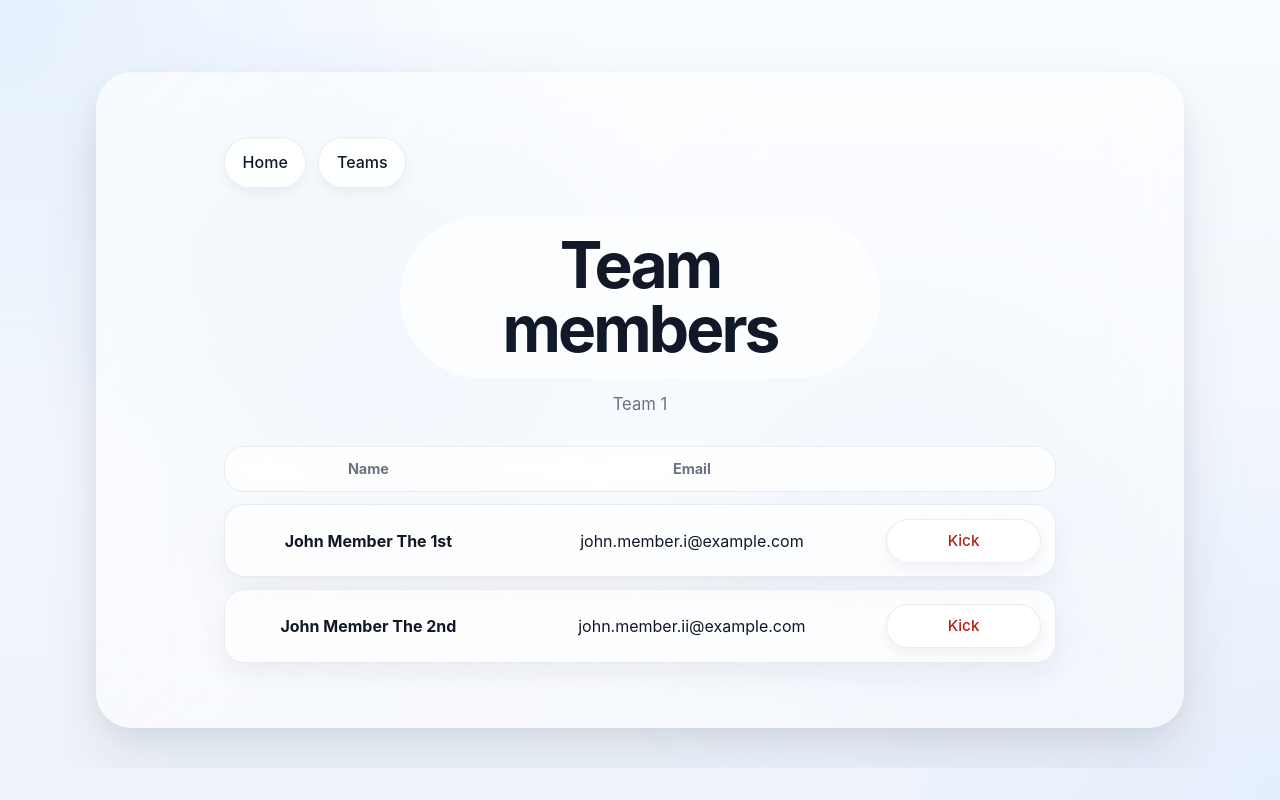
on kick with confirmation removes member from list
Click the button "Kick" next to "john.member.ii@example.com": [964, 626] box [886,604,1041,648]
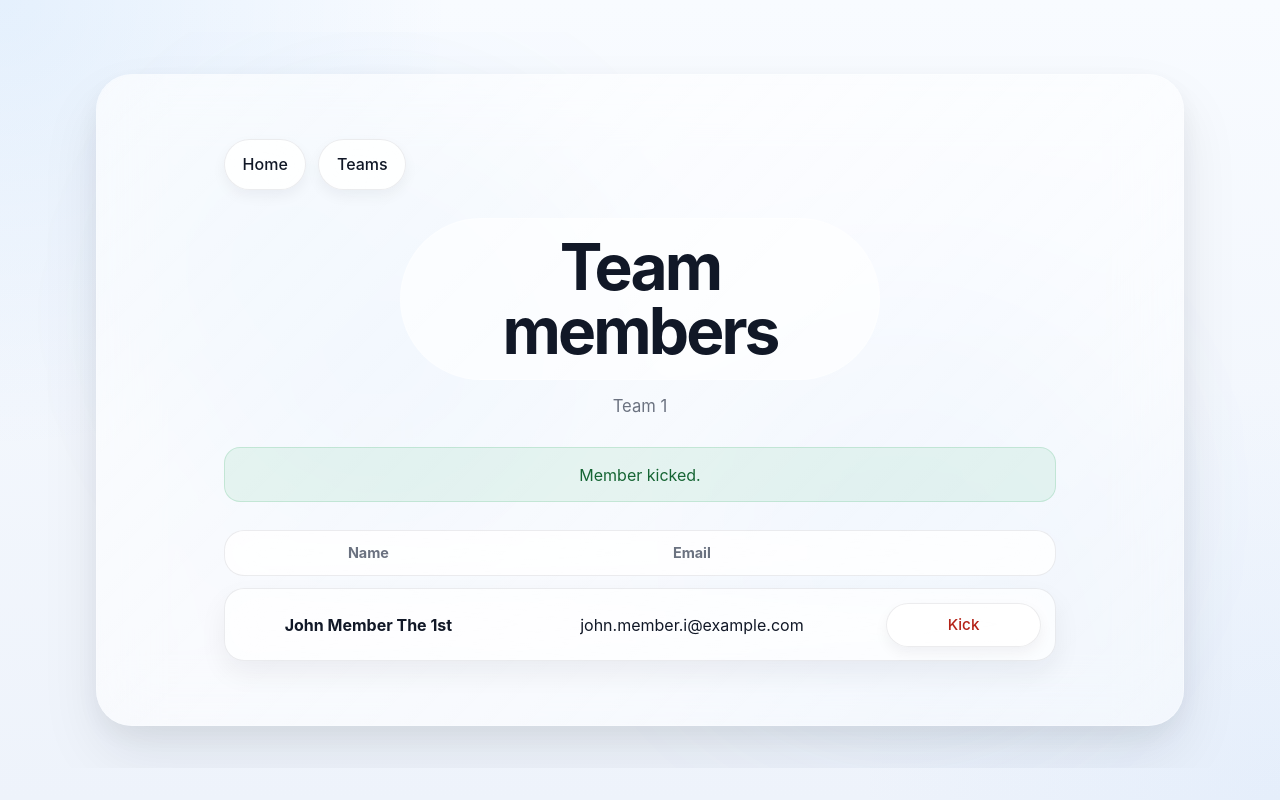
Check: the text "John Member The 1st" is shown, box [285,615,452,635]
Check: the text "John Member The 2nd" is gone
Check: the text "john.member.ii@example.com" is gone
